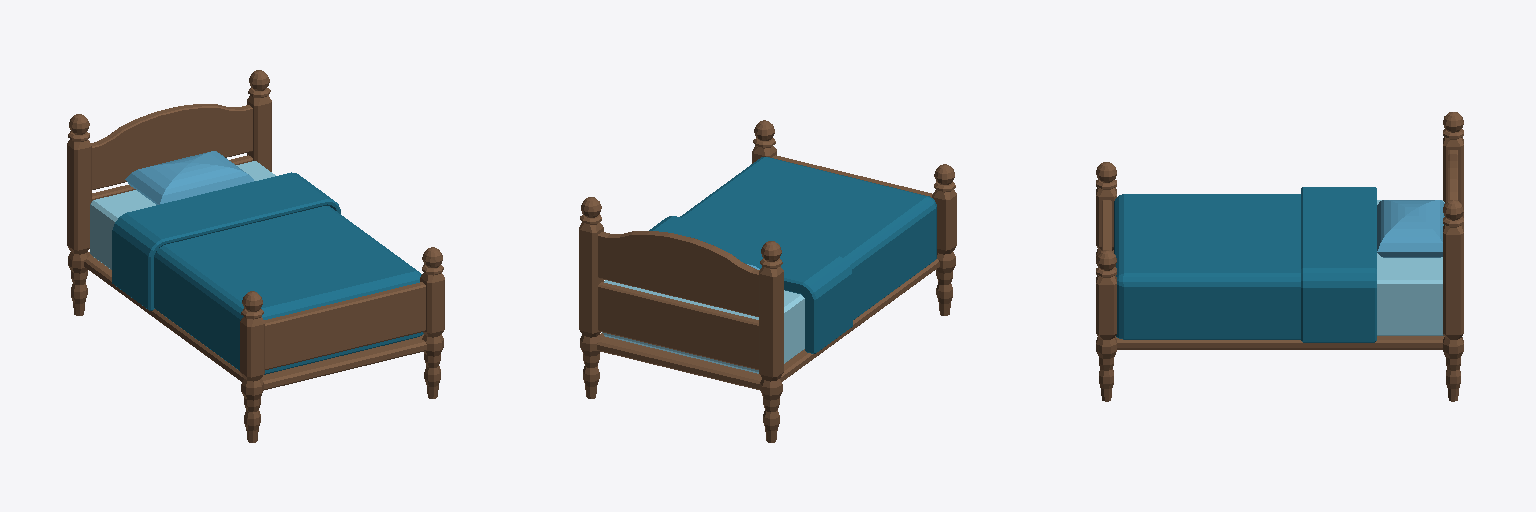
The model's file is Prop_Bedroom_Bed_Single.obj.
3 views of the same model, side by side, from view 1: azimuth 30°, elevation 25°; view 2: azimuth 150°, elevation 25°; view 3: azimuth 270°, elevation 25° (orthographic).
Parts seen in each view (by area): view 1: object3, object4, object2, object1; view 2: object4, object3, object1; view 3: object3, object4, object1, object2.
Boxes of the visible parts, x1,y1,x2,y2 form: object3: [112, 172, 423, 374]; object4: [67, 70, 444, 442]; object2: [125, 151, 253, 204]; object1: [90, 161, 275, 269]; object4: [579, 120, 956, 442]; object3: [649, 157, 936, 353]; object1: [602, 280, 804, 373]; object3: [1114, 187, 1376, 342]; object4: [1096, 112, 1463, 401]; object1: [1377, 200, 1444, 335]; object2: [1377, 200, 1444, 257].
Bounding box in the file's own units: 1.65 × 1.58 × 2.65.